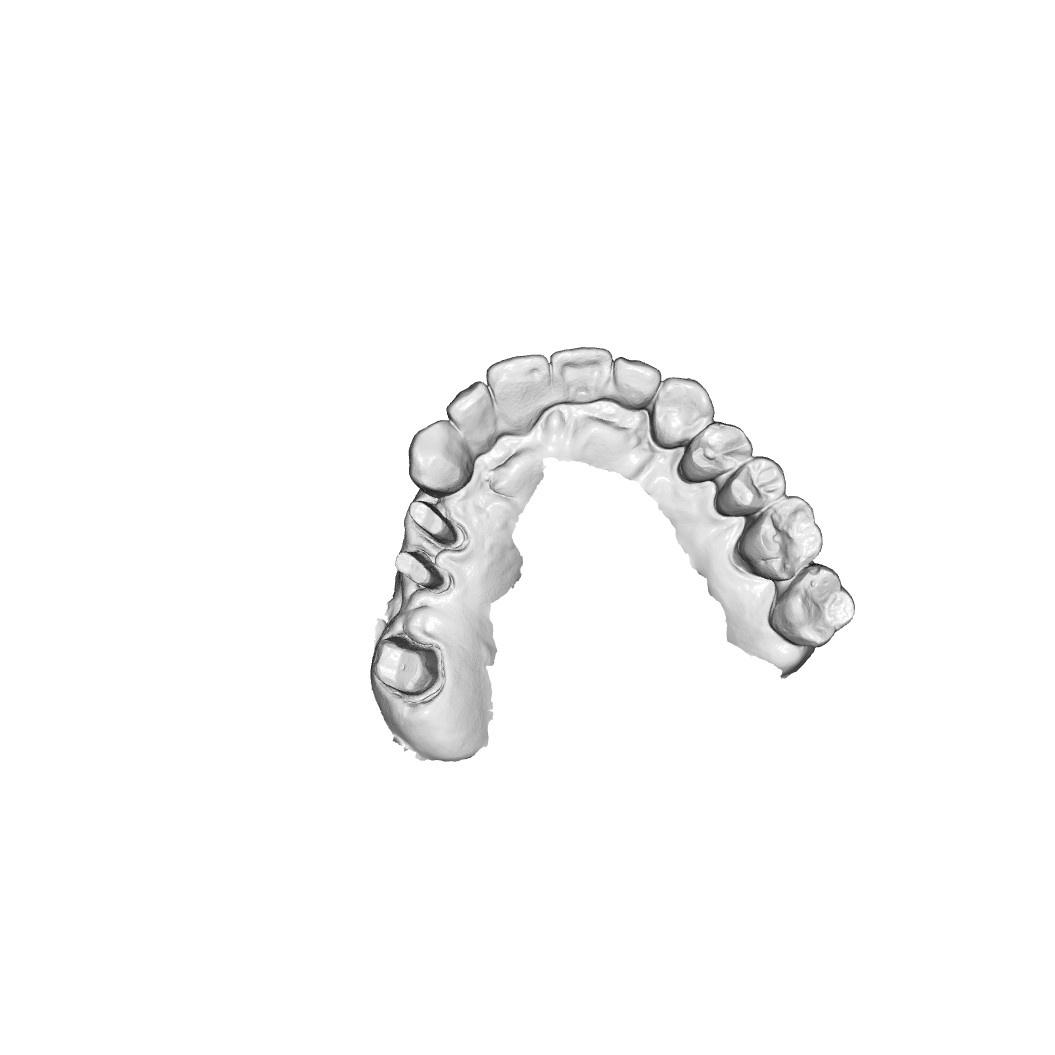canine: (413, 423, 475, 493), (655, 375, 713, 448)
crown: (370, 638, 441, 698), (410, 495, 455, 548), (393, 546, 441, 592)
incisor: (488, 358, 555, 428), (549, 347, 612, 406), (452, 386, 501, 455), (618, 357, 661, 403)
molar: (745, 500, 825, 581), (780, 568, 852, 648)
premolar: (683, 419, 757, 484), (723, 457, 793, 520)
